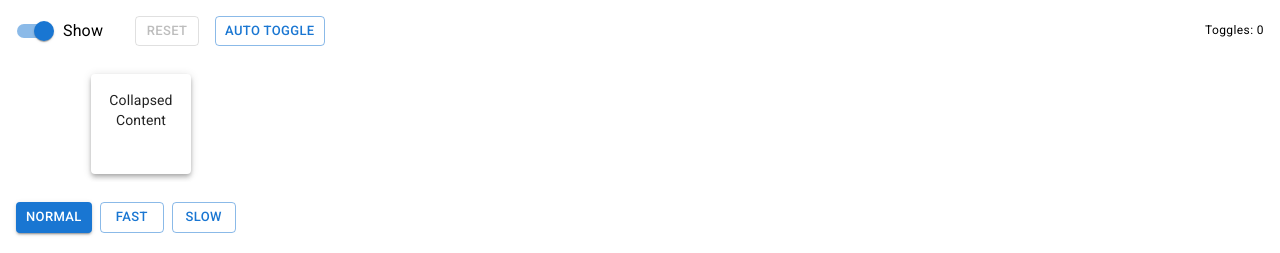
Test case: Play (SimpleCollapse) › toggles switch on click
Click the checkbox.
click(60, 31)  # box [17,21,103,41]
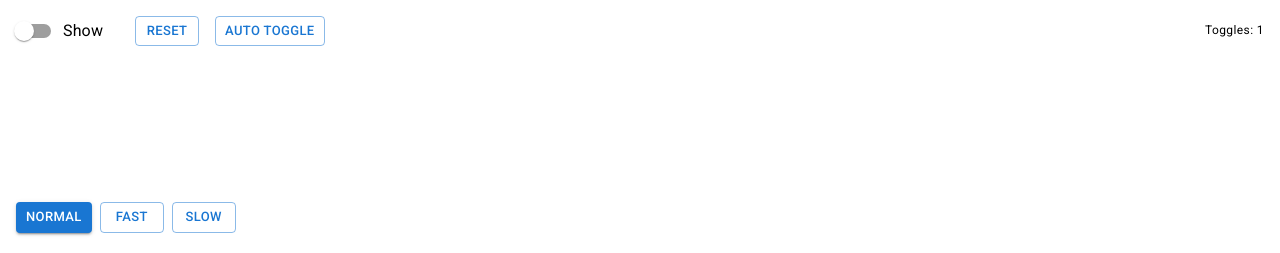
Check: the checkbox is not checked, box [14,21,103,41]
